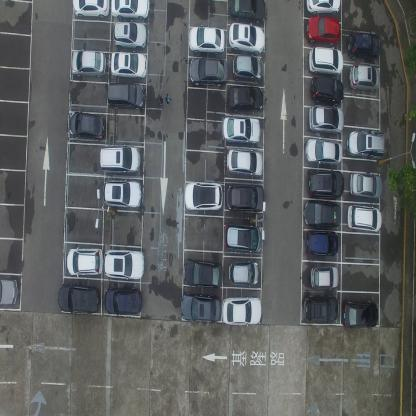car: (103, 247, 145, 279), (183, 258, 224, 290), (58, 282, 99, 314), (228, 21, 266, 55), (181, 291, 221, 323), (184, 180, 224, 212), (188, 55, 228, 87), (222, 294, 263, 325), (225, 221, 263, 254), (102, 178, 142, 209), (308, 103, 345, 136), (99, 144, 141, 173), (107, 82, 146, 112), (65, 246, 104, 276), (303, 199, 342, 229), (222, 116, 260, 146), (68, 111, 106, 141), (104, 286, 142, 316), (226, 183, 265, 212), (310, 74, 344, 107), (303, 293, 339, 324), (226, 148, 263, 178), (188, 26, 225, 56), (307, 168, 344, 198), (347, 129, 384, 159), (304, 137, 342, 166), (306, 16, 340, 48), (112, 20, 148, 50), (308, 48, 344, 78), (347, 30, 380, 62), (71, 49, 106, 79), (347, 203, 382, 233), (111, 51, 147, 80), (342, 299, 378, 327), (228, 84, 263, 112), (305, 229, 339, 257), (349, 63, 380, 93), (349, 171, 382, 199), (228, 256, 259, 285), (233, 53, 262, 82), (111, 0, 149, 21), (228, 0, 265, 21), (72, 0, 110, 19), (310, 266, 339, 288), (306, 0, 341, 17), (0, 278, 18, 307)
